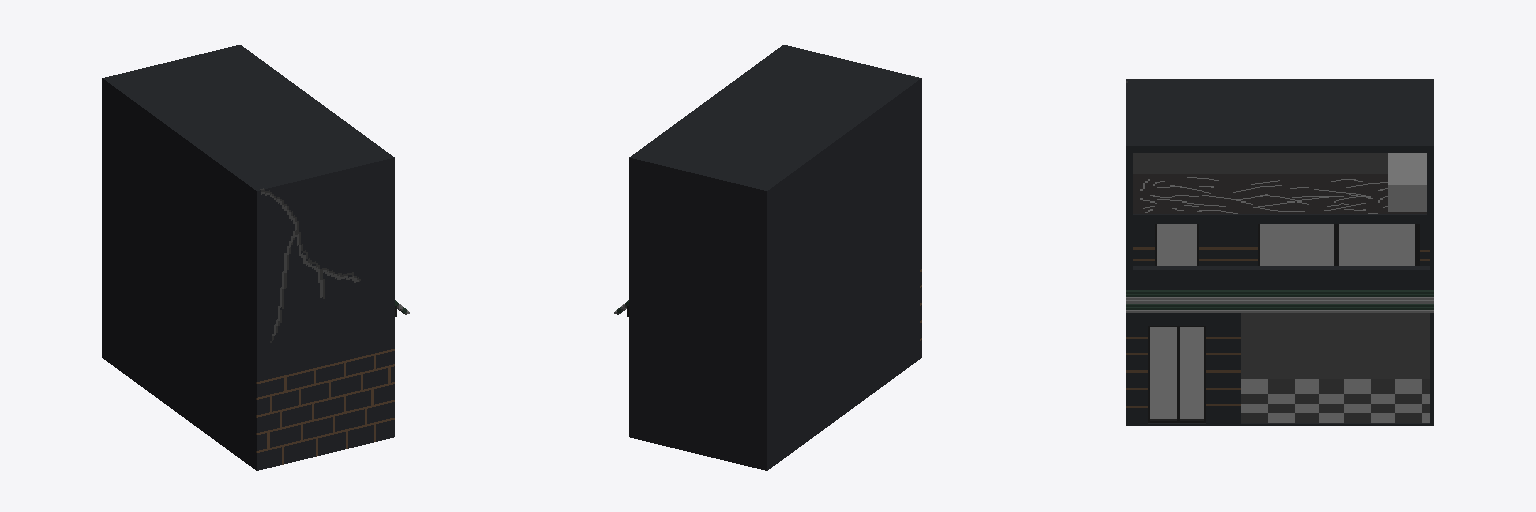
3 renders of one model, left to right at view 1: azimuth 30°, elevation 25°; view 2: azimuth 150°, elevation 25°; view 3: azimuth 270°, elevation 25°, orthographic.
Parts seen in each view (by area): view 1: object 1; view 2: object 1; view 3: object 1.
Boxes of the visible parts, x1,y1,x2,y2 form: object 1: [102, 45, 409, 470]; object 1: [614, 45, 921, 470]; object 1: [1126, 79, 1433, 425].
Bounding box in the file's own units: 7.2 × 12.6 × 12.6.
Materials: 1 (1 with a texture image).